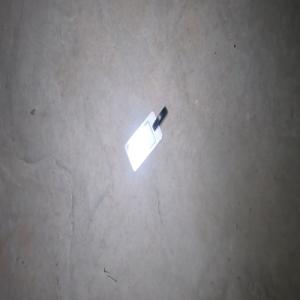LuggageTag: (123, 105, 167, 173)
